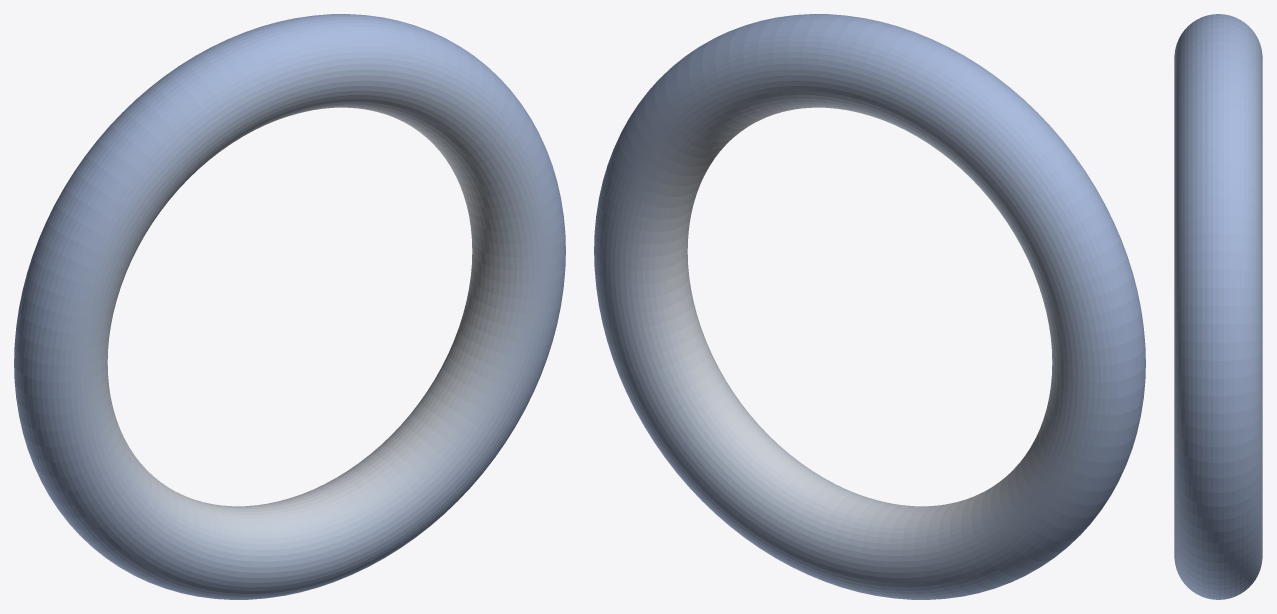
3 renders of one model, left to right at view 1: azimuth 30°, elevation 25°; view 2: azimuth 150°, elevation 25°; view 3: azimuth 270°, elevation 25°, orthographic. The views are drawn at different scales.
Visible parts, largest first — view 1: world; view 2: world; view 3: world.
Part boxes in pixels (box(x1,y1,x2,y2)): world: box(14, 14, 565, 599); world: box(594, 14, 1145, 599); world: box(1174, 14, 1262, 599).
Size of the model in its own units: 27.47 by 27.47 by 4.13.
